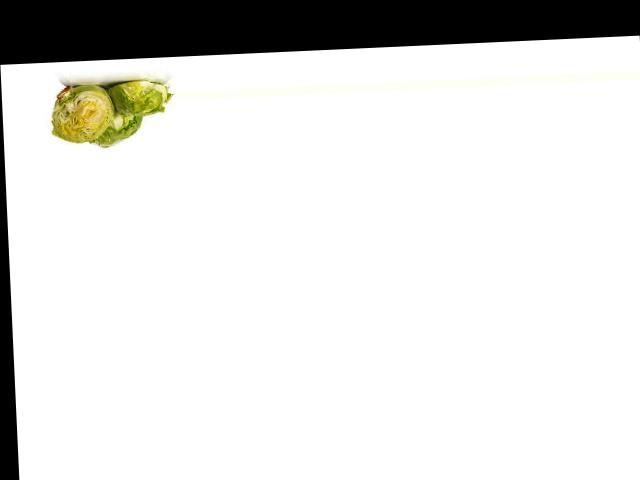lettuce: (81, 104, 149, 150)
